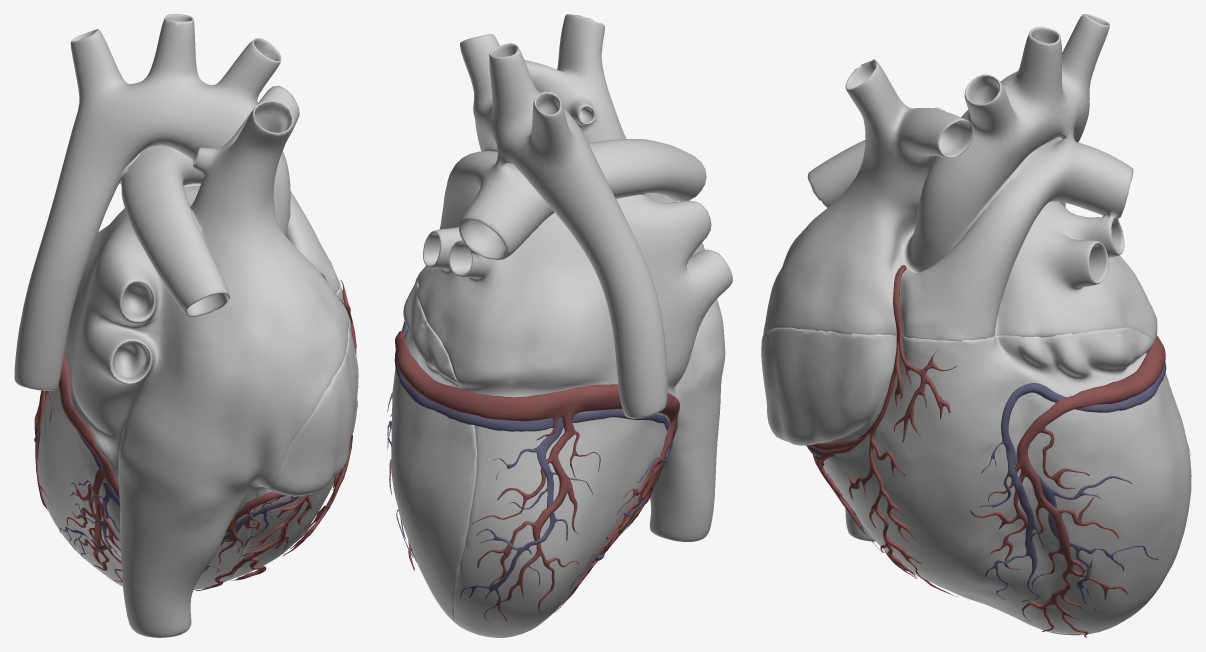
The model's file is HumanHeart.fbx.
3 renders of one model, left to right at view 1: azimuth 30°, elevation 25°; view 2: azimuth 150°, elevation 25°; view 3: azimuth 270°, elevation 25°, orthographic. The views are drawn at different scales.
Parts seen in each view (by area): view 1: polySurface4, polySurface3, Heart_Exteror_Vains_2_GEO, Heart_Exteror_Vains_1_GEO; view 2: polySurface4, polySurface3, Heart_Exteror_Vains_2_GEO, Heart_Exteror_Vains_1_GEO; view 3: polySurface3, polySurface4, Heart_Exteror_Vains_2_GEO, Heart_Exteror_Vains_1_GEO.
Boxes of the visible parts, x1,y1,x2,y2 form: polySurface4: (14, 14, 349, 637); polySurface3: (223, 279, 358, 582); Heart_Exteror_Vains_2_GEO: (34, 273, 357, 591); Heart_Exteror_Vains_1_GEO: (34, 406, 299, 573); polySurface4: (417, 14, 732, 637); polySurface3: (391, 268, 477, 623); Heart_Exteror_Vains_2_GEO: (387, 330, 679, 621); Heart_Exteror_Vains_1_GEO: (387, 321, 672, 623); polySurface3: (761, 327, 1191, 634); polySurface4: (763, 14, 1157, 635); Heart_Exteror_Vains_2_GEO: (806, 265, 1190, 637); Heart_Exteror_Vains_1_GEO: (808, 362, 1166, 612).
Size of the model in its own units: 5.89 by 11.62 by 7.5.
